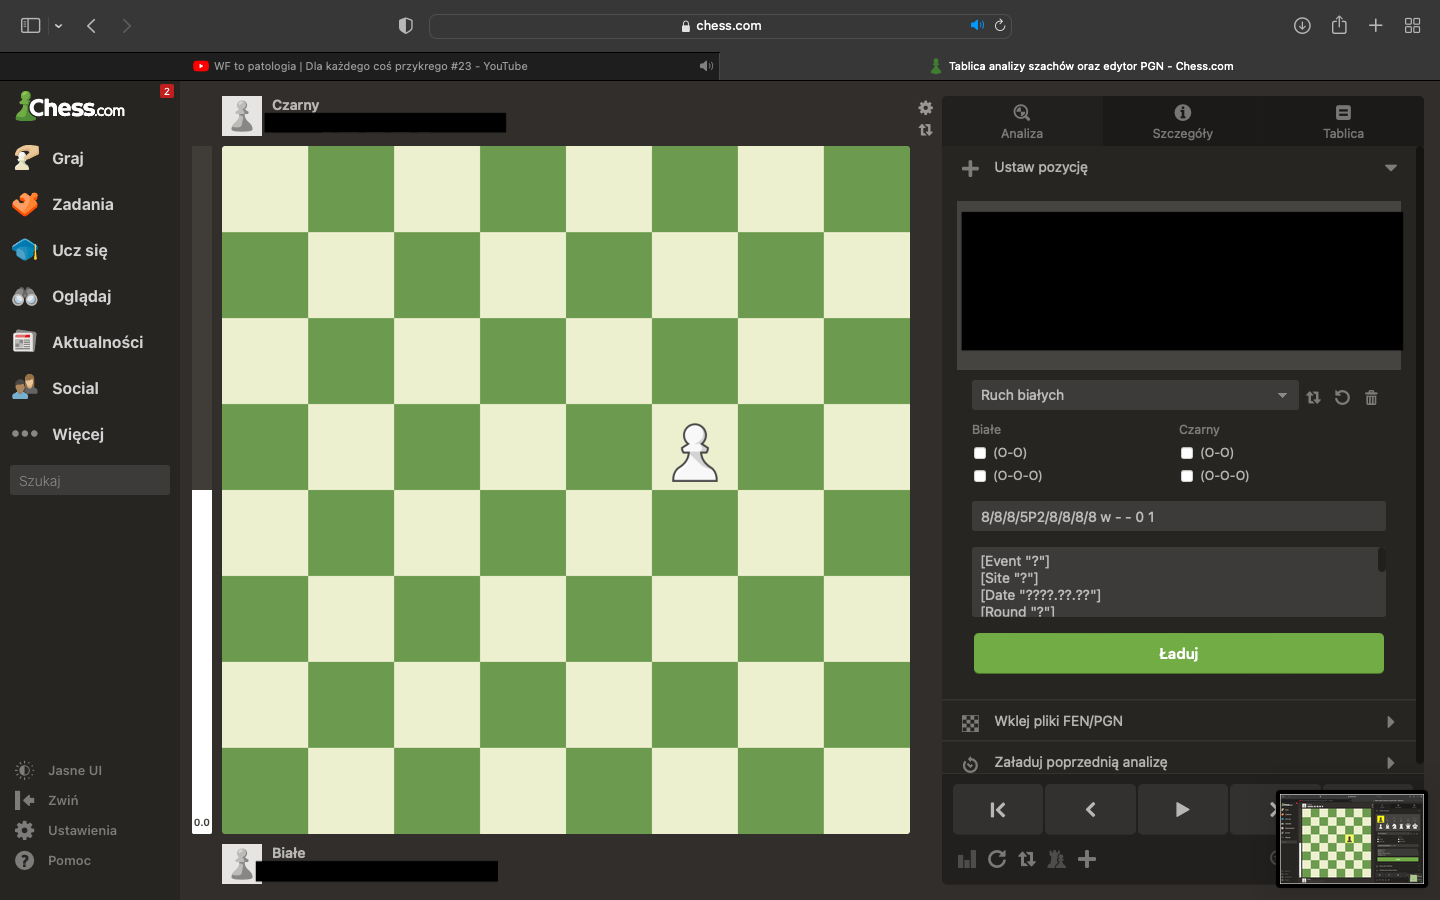white_pawn: (671, 422, 719, 483)
